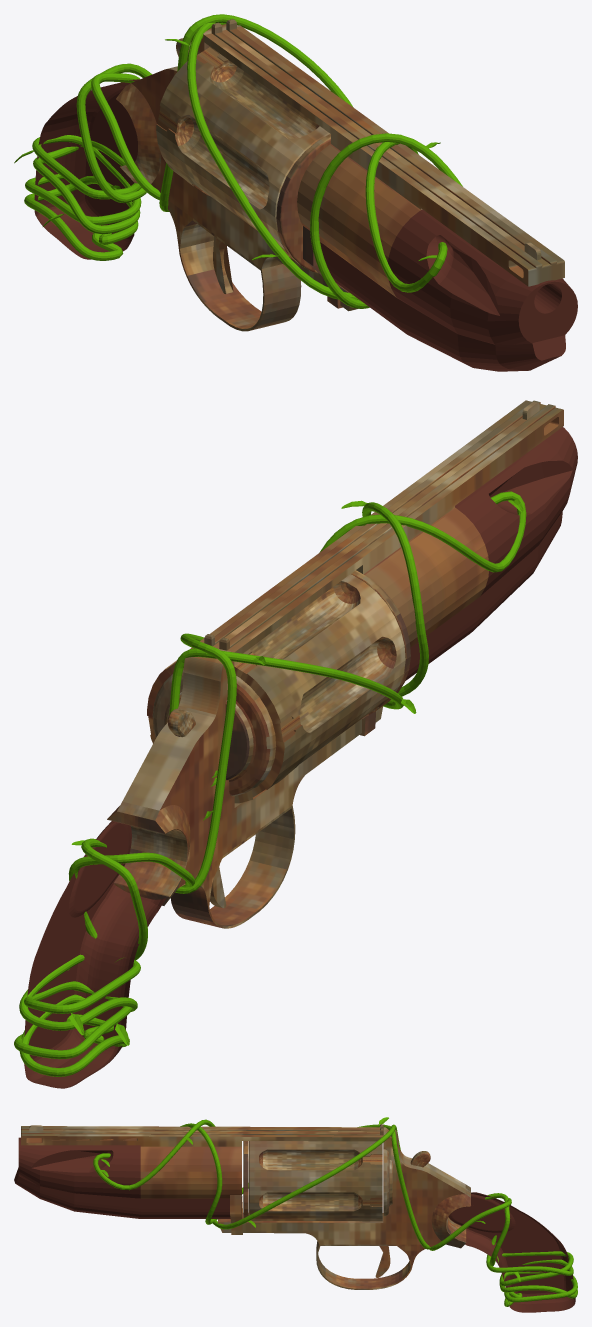
The model's file is Revolver.fbx.
3 renders of one model, top to bottom at view 1: azimuth 30°, elevation 25°; view 2: azimuth 150°, elevation 25°; view 3: azimuth 270°, elevation 25°, orthographic. The views are drawn at different scales.
Visible parts, largest first — view 1: BezierCurve.005, Cylinder, BezierCurve.003, BézierCurve.001, BézierCurve.002, BezierCurve.006, BezierCurve.007, BezierCurve.002, BezierCurve.001, Cylinder.001, BezierCurve.004, BezierCurve; view 2: Cylinder, BezierCurve.005, BezierCurve.003, BezierCurve.006, BezierCurve.001, BézierCurve.001, BézierCurve.002, BezierCurve.002, BezierCurve.004, Cylinder.002, BezierCurve.007, Cylinder.001; view 3: BezierCurve.005, Cylinder, BezierCurve.001, BezierCurve.003, BezierCurve.006, BezierCurve.007, BézierCurve.001, BézierCurve.002, BezierCurve.002, BezierCurve.004, Cylinder.002, Cylinder.001 (+1 smaller).
Boxes of the visible parts, bbox=[...] form: BezierCurve.005: bbox=[297, 144, 577, 344]; Cylinder: bbox=[156, 46, 330, 261]; BezierCurve.003: bbox=[204, 19, 564, 286]; BézierCurve.001: bbox=[24, 14, 462, 308]; BézierCurve.002: bbox=[25, 22, 447, 300]; BezierCurve.006: bbox=[34, 79, 139, 259]; BezierCurve.007: bbox=[320, 242, 565, 371]; BezierCurve.002: bbox=[167, 200, 301, 331]; BezierCurve.001: bbox=[131, 24, 358, 311]; Cylinder.001: bbox=[276, 134, 330, 273]; BezierCurve.004: bbox=[116, 83, 161, 183]; BezierCurve: bbox=[213, 236, 233, 293]; Cylinder: bbox=[147, 574, 405, 803]; BezierCurve.005: bbox=[364, 427, 577, 647]; BezierCurve.003: bbox=[200, 400, 563, 653]; BezierCurve.006: bbox=[24, 821, 165, 1088]; BezierCurve.001: bbox=[122, 647, 382, 888]; BézierCurve.001: bbox=[19, 502, 428, 1076]; BézierCurve.002: bbox=[14, 491, 526, 1059]; BezierCurve.002: bbox=[170, 805, 295, 928]; BezierCurve.004: bbox=[107, 801, 190, 905]; Cylinder.002: bbox=[152, 668, 276, 796]; BezierCurve.007: bbox=[405, 511, 562, 680]; Cylinder.001: bbox=[351, 570, 410, 704]; BezierCurve.005: bbox=[18, 1137, 241, 1198]; Cylinder: bbox=[249, 1141, 382, 1221]; BezierCurve.001: bbox=[218, 1127, 465, 1244]; BezierCurve.003: bbox=[21, 1124, 383, 1146]; BezierCurve.006: bbox=[448, 1192, 575, 1312]; BezierCurve.007: bbox=[14, 1167, 241, 1218]; BézierCurve.001: bbox=[93, 1119, 577, 1306]; BézierCurve.002: bbox=[180, 1123, 577, 1302]; BezierCurve.002: bbox=[316, 1241, 435, 1289]; BezierCurve.004: bbox=[431, 1184, 470, 1248]; Cylinder.002: bbox=[383, 1149, 392, 1216]; Cylinder.001: bbox=[243, 1141, 248, 1218].
Size of the model in its own units: 82.84 by 166 by 457.
3 materials, 1 textured.
